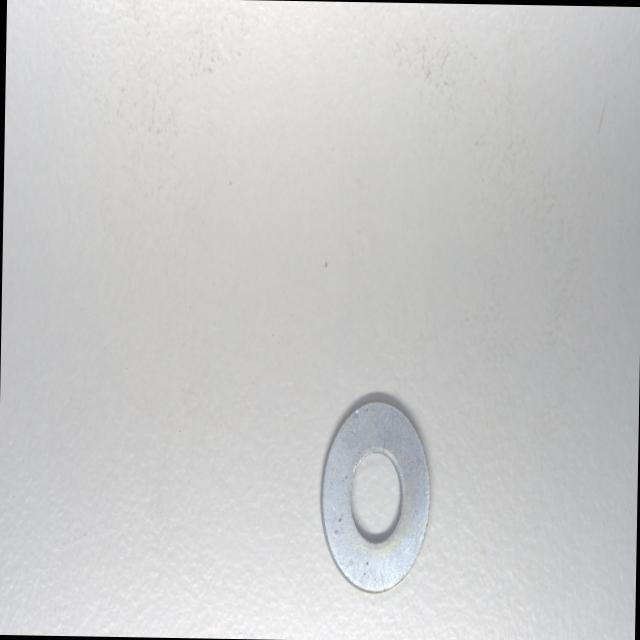washer: (318, 396, 434, 594)
